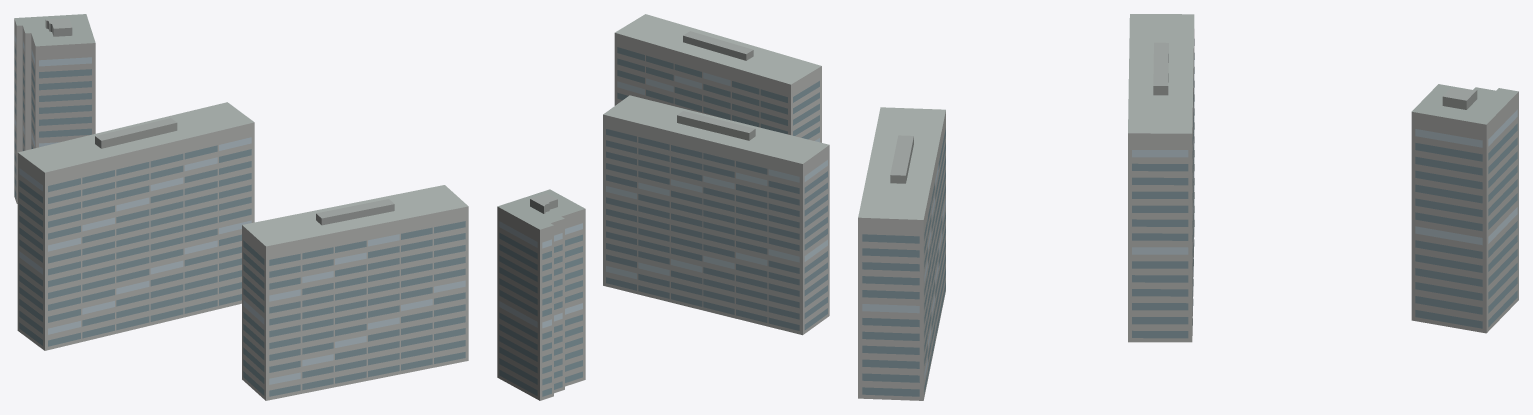
Rendered from apt-a12289401.glb.
The picture shows the model from 3 angles, left to right: view 1: azimuth 30°, elevation 25°; view 2: azimuth 150°, elevation 25°; view 3: azimuth 270°, elevation 25°; orthographic projection. The views are drawn at different scales.
Parts seen in each view (by area): view 1: apt-a12289401; view 2: apt-a12289401; view 3: apt-a12289401.
Part boxes in pixels (x1,y1,x2,y2): apt-a12289401: (14,14,468,400); apt-a12289401: (497,14,829,400); apt-a12289401: (858,14,1518,400).
Size of the model in its own units: 83.8 by 47.81 by 131.
